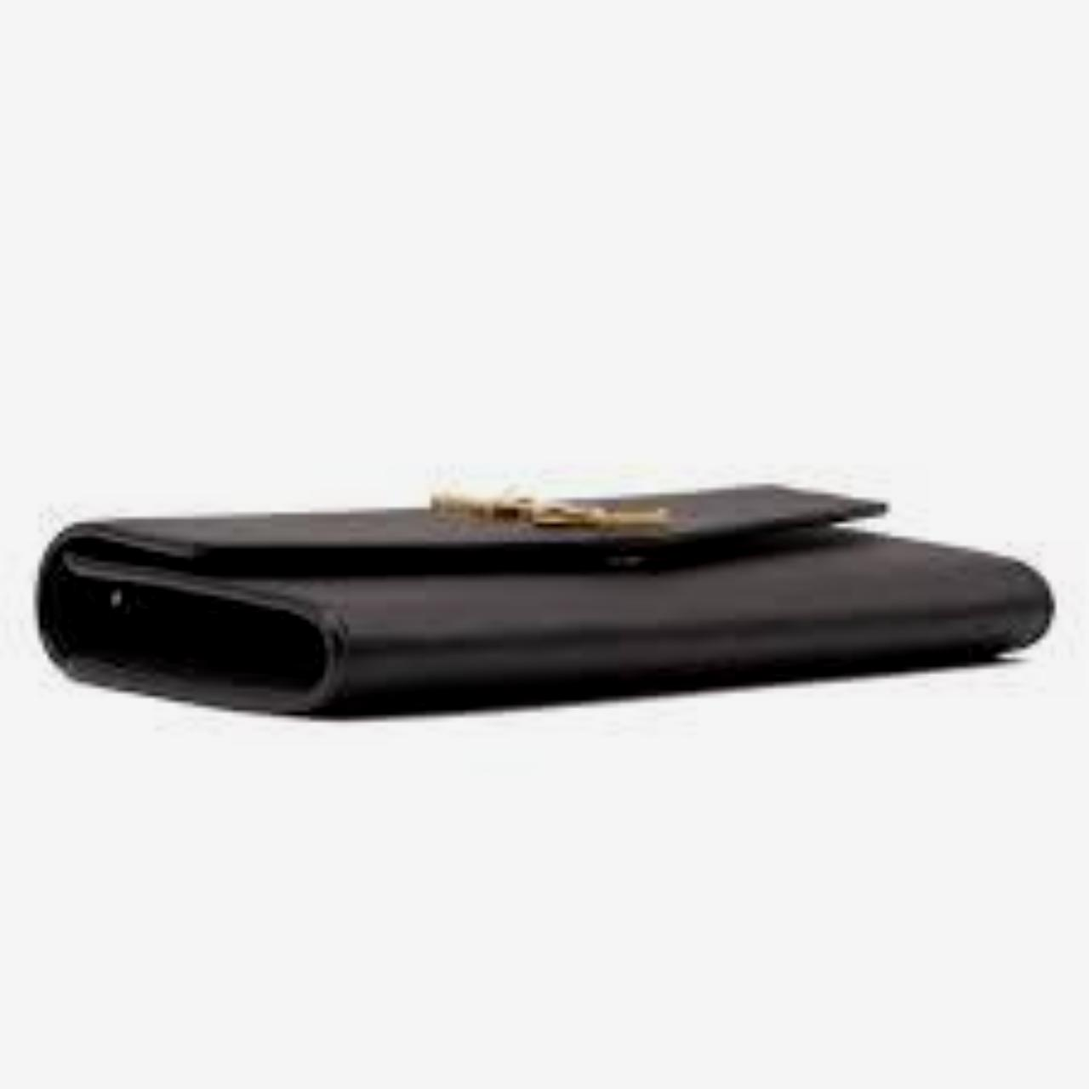wallet: (46, 496, 1009, 747)
